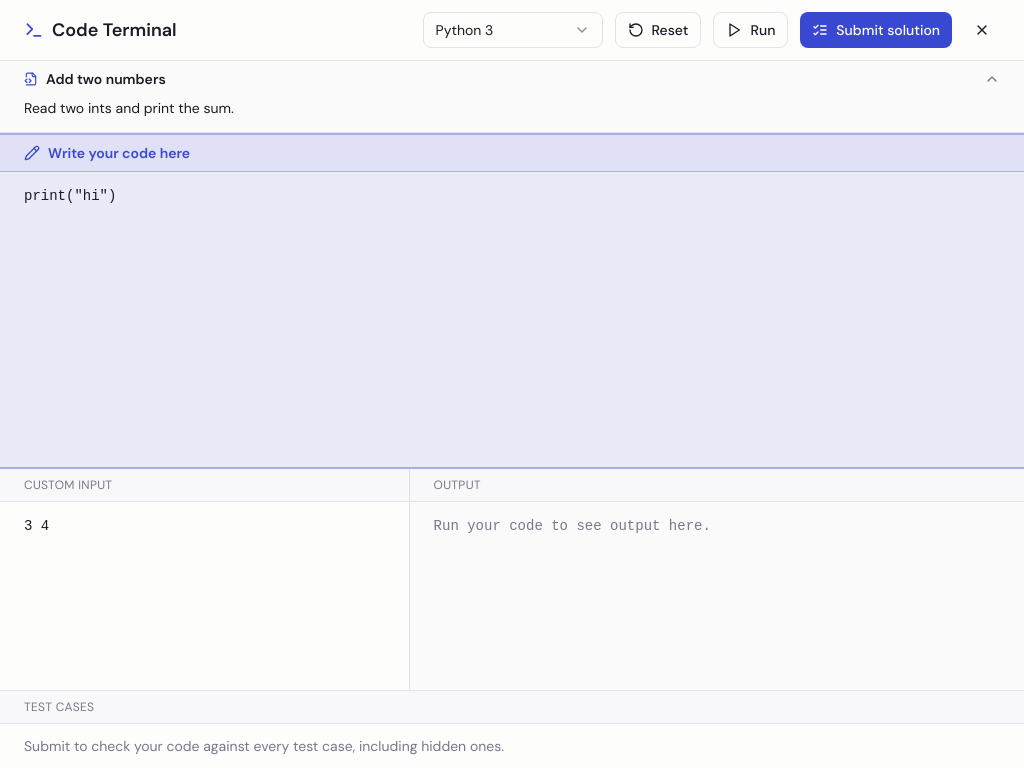
Test case: CodingTerminalWidget submission › shows failure details and verdicts, never Accepted, for failed cases
Click the button "Submit solution": (876, 30) [800,12,952,48]
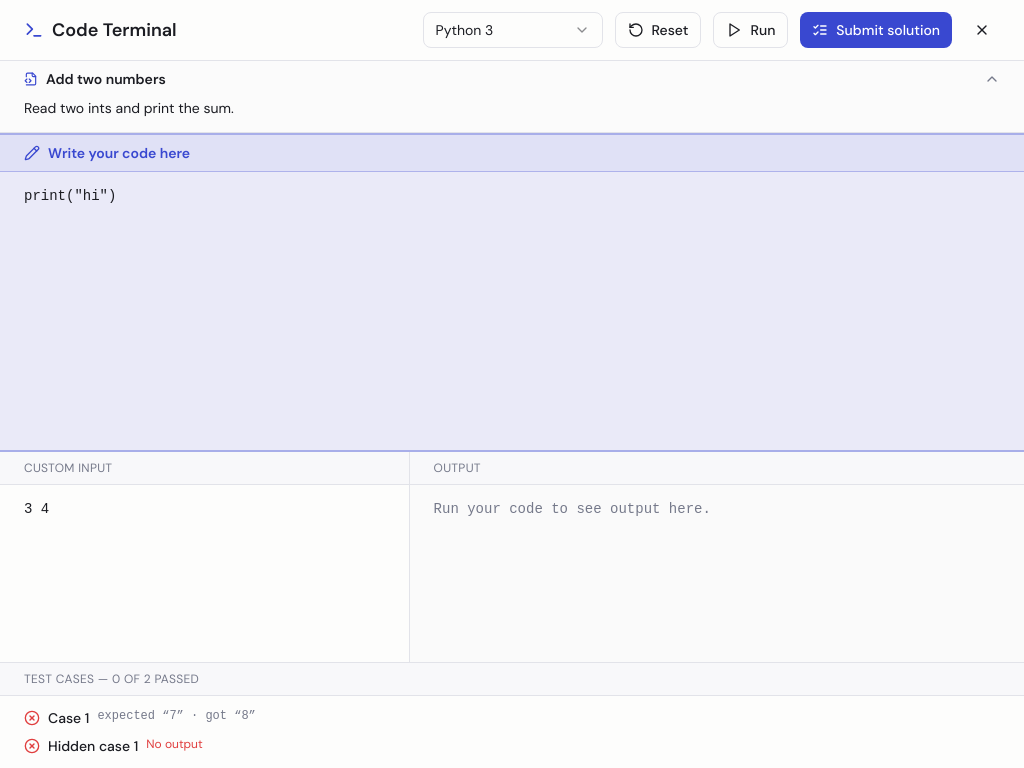
Result: the text "Test cases — 0 of 2 passed" is shown at [24,671,199,687]
Result: the text "expected “7” · got “8”" is shown at [97,709,256,723]
Result: the text "Hidden case 1" is shown at [48,736,138,756]
